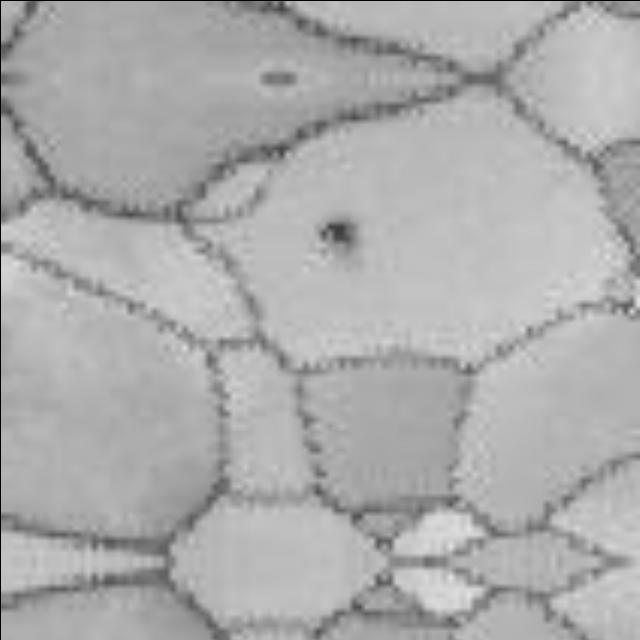good_void: (304, 212, 368, 277)
